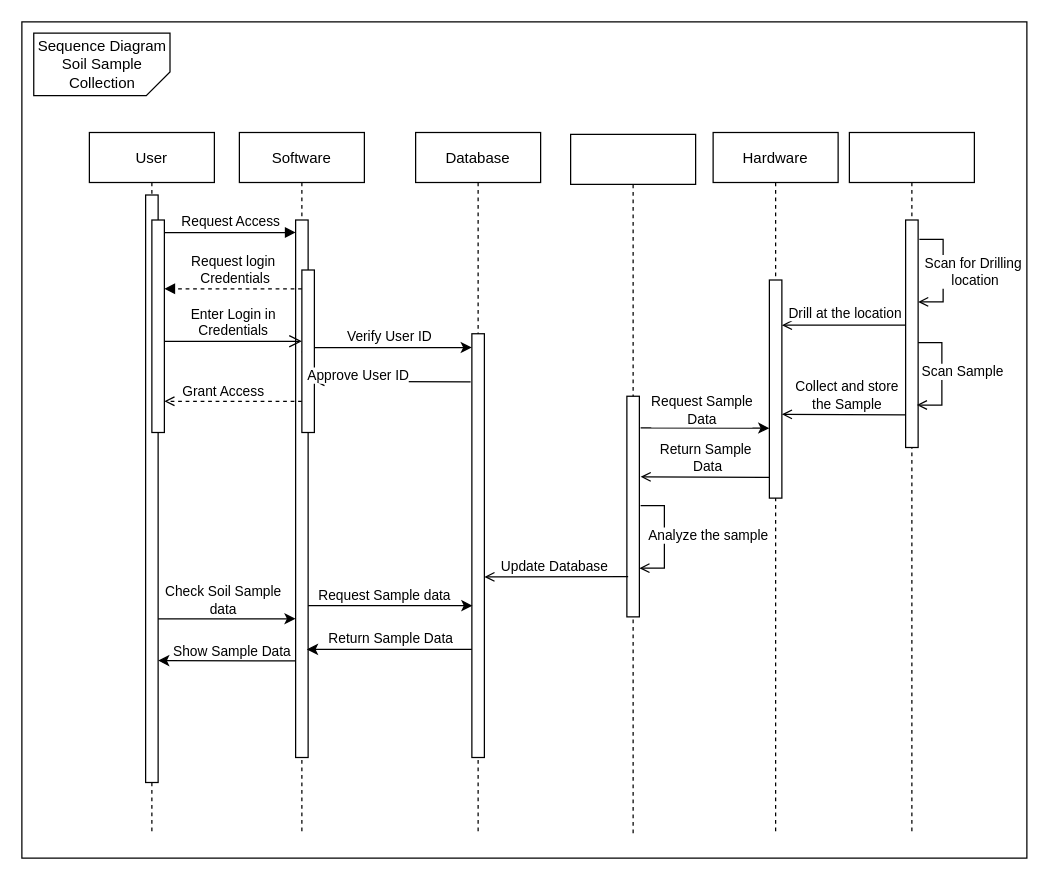
This 1049x880 diagram has some shape labels left out. The shapes that lost their labels are listed below. From the top down, each one's box as (x1, y1, x2, y2) in pixels, then its label:
(569, 133, 696, 834): Soil Analyzer
(848, 131, 974, 832): Sensors
